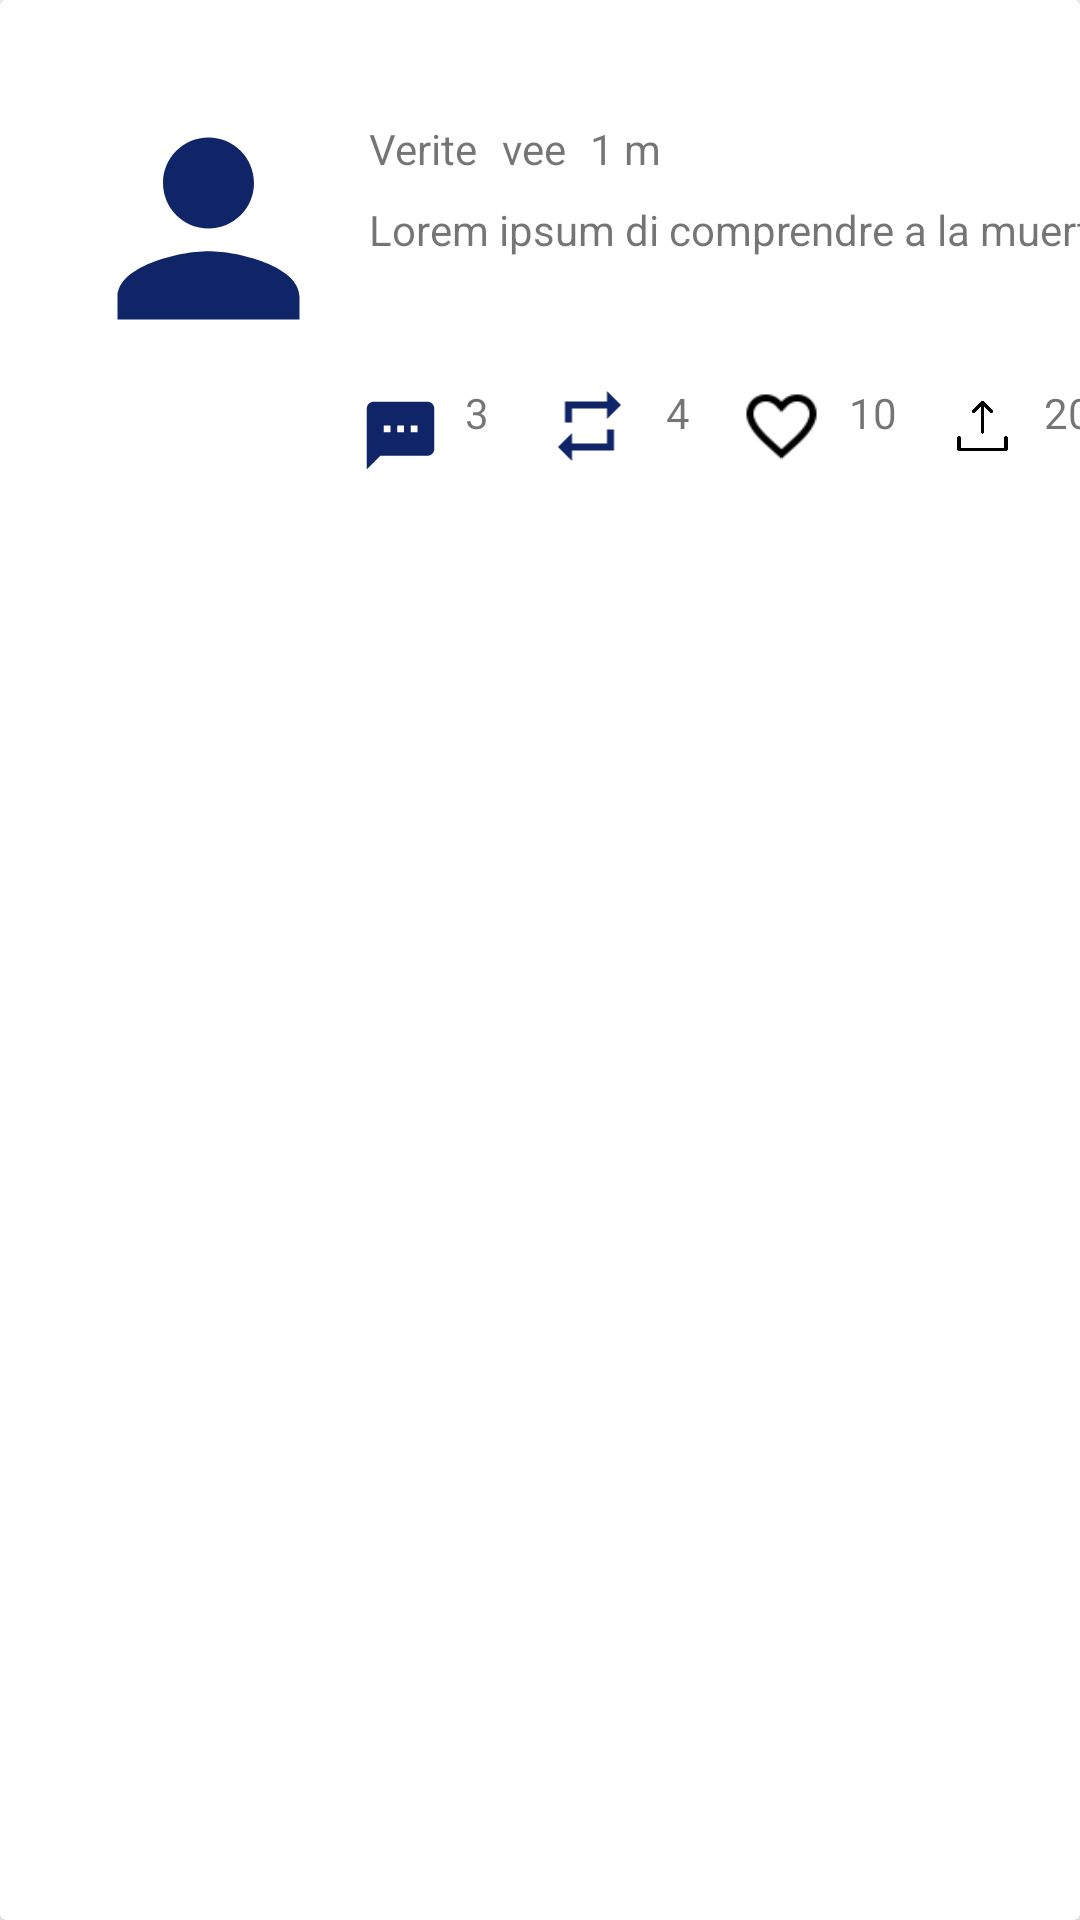

Icon bounding boxes for this 1080 × 1920 phone screenshot, format (x1, y1, x2, y2):
person: (117, 137, 300, 320)
repeat: (558, 391, 621, 461)
textsms: (366, 401, 435, 469)
